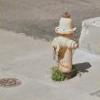Hydrant: (45, 7, 88, 83)
